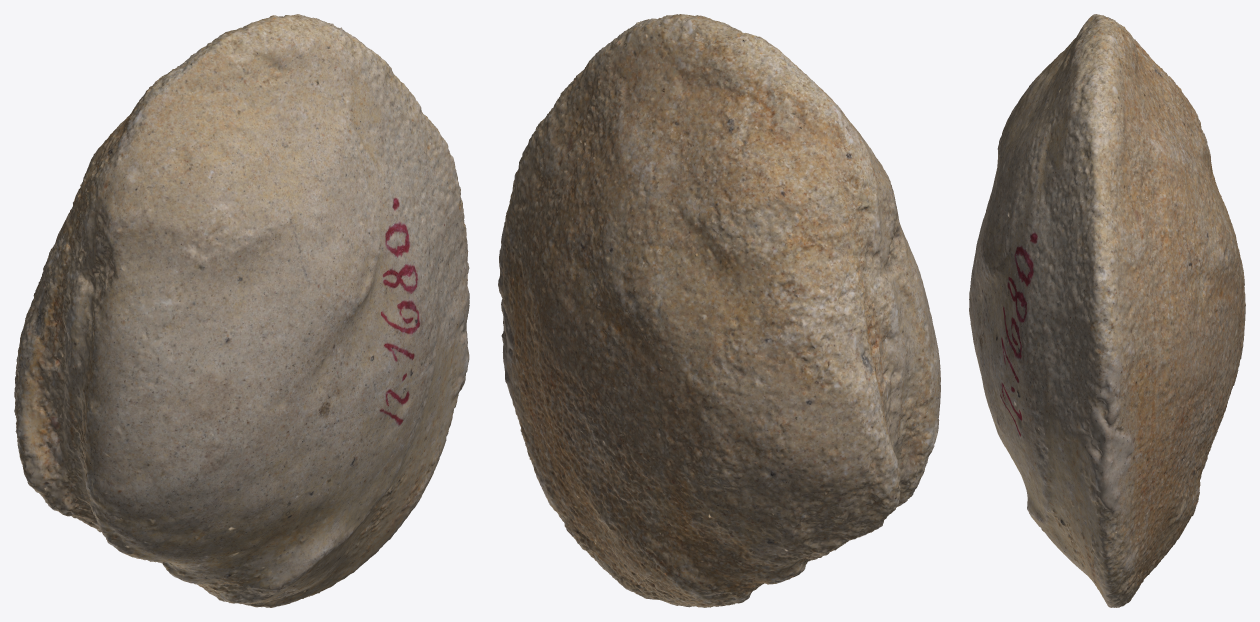
File: EWS0014134.glb
3 renders of one model, left to right at view 1: azimuth 30°, elevation 25°; view 2: azimuth 150°, elevation 25°; view 3: azimuth 270°, elevation 25°, orthographic. The views are drawn at different scales.
Visible parts, largest first — view 1: EWS0014134.001; view 2: EWS0014134.001; view 3: EWS0014134.001.
Boxes of the visible parts, x1,y1,x2,y2 form: EWS0014134.001: (14, 14, 469, 607); EWS0014134.001: (498, 14, 940, 607); EWS0014134.001: (969, 14, 1245, 607).
Bounding box in the file's own units: 0.0362 × 0.0483 × 0.0219.
Materials: 1 (1 with a texture image).
